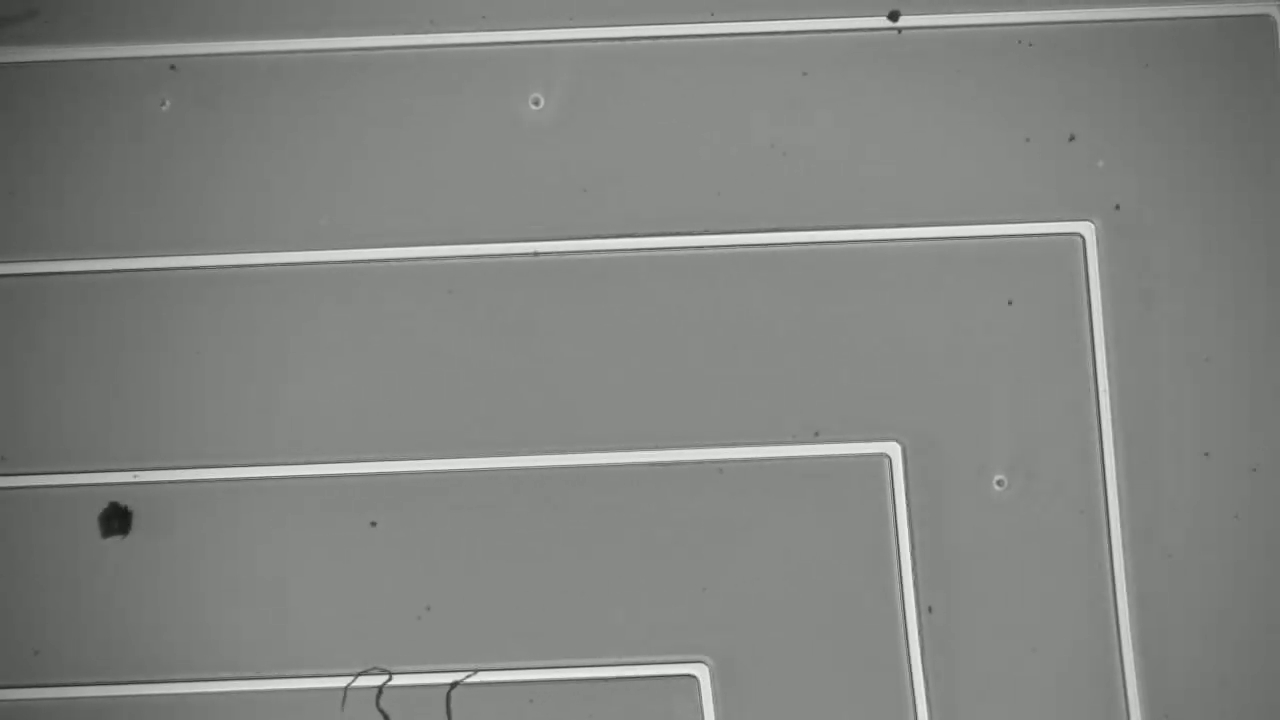stains_enbedded: (878, 3, 914, 35)
